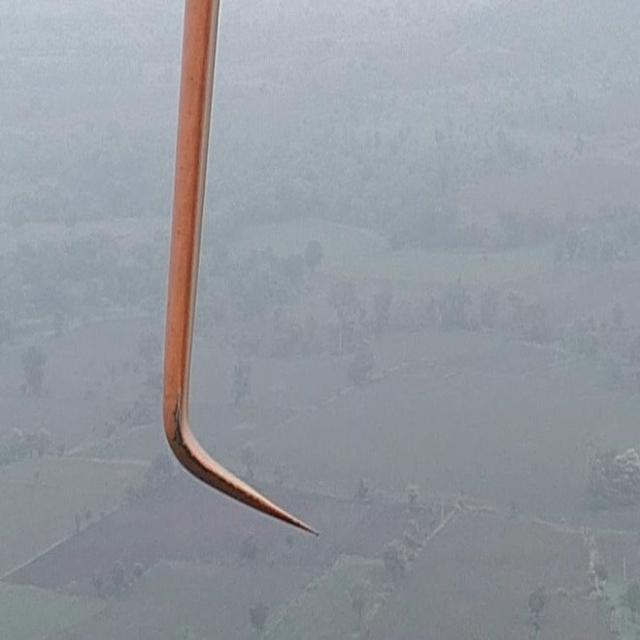EROSION: (160, 402, 220, 473)
